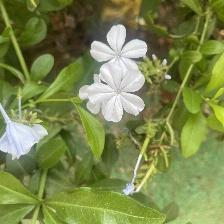chitrak: (81, 63, 149, 123), (89, 25, 150, 72)
